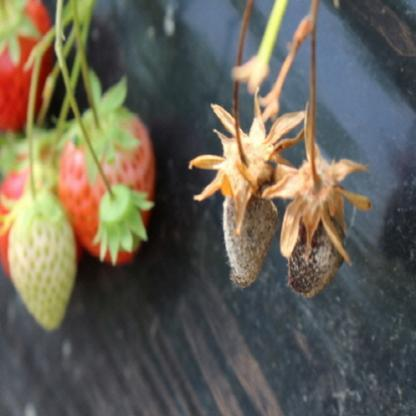Strawberry_Gray_Mold: (186, 88, 309, 289), (259, 141, 372, 298)
